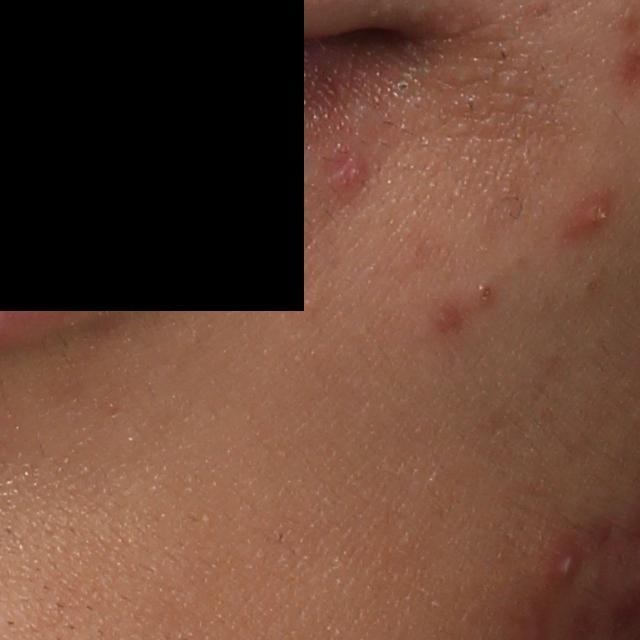papule: (330, 149, 370, 198)
pustule: (558, 188, 617, 241), (549, 541, 589, 585)
